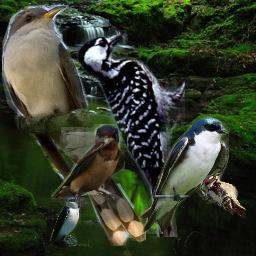Cuckoo: (2, 5, 146, 246)
Swallow: (138, 116, 229, 234), (51, 124, 125, 209), (50, 195, 81, 244)
Woodpecker: (76, 28, 185, 237), (204, 174, 246, 218)
